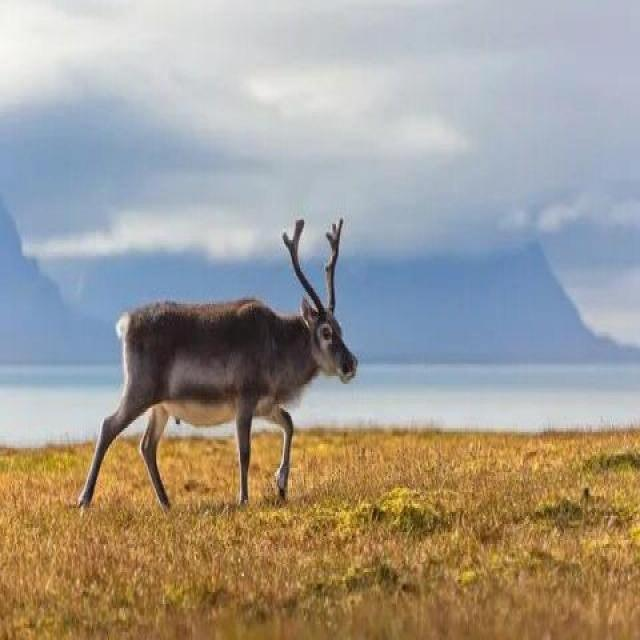deer: (72, 175, 405, 577)
